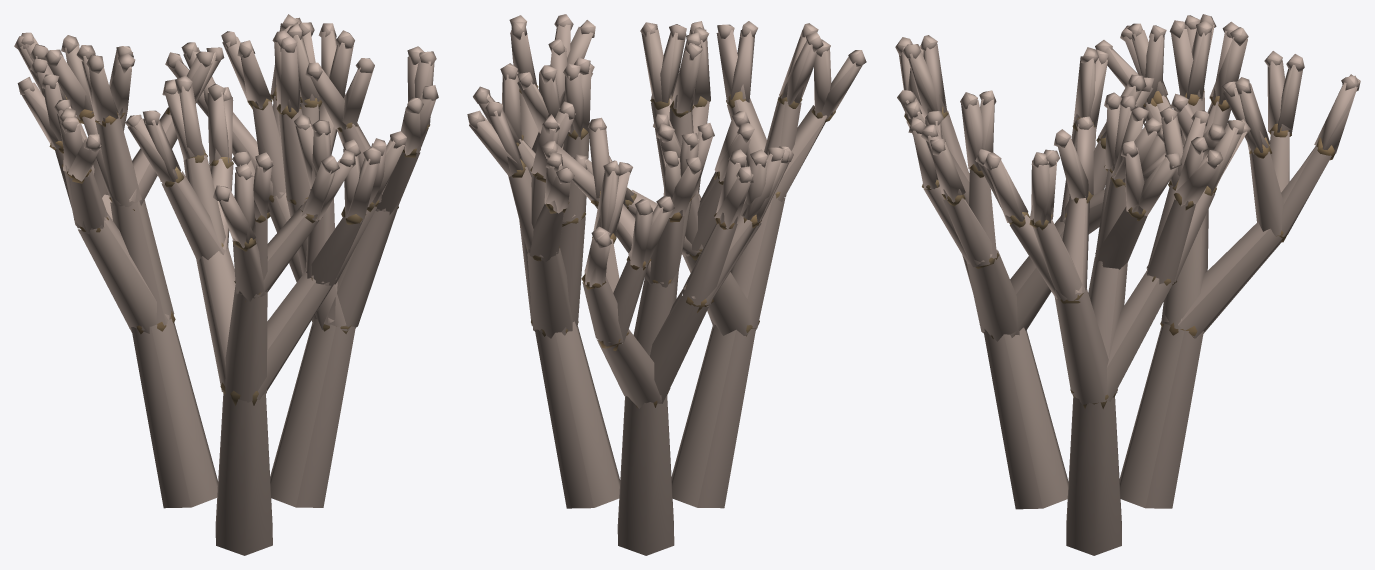
Rendered from staghorn_coral.glb.
3 views of the same model, side by side, from view 1: azimuth 30°, elevation 25°; view 2: azimuth 150°, elevation 25°; view 3: azimuth 270°, elevation 25° (orthographic). The views are drawn at different scales.
Parts seen in each view (by area): view 1: staghorn_coral; view 2: staghorn_coral; view 3: staghorn_coral.
Boxes of the visible parts, box(x1,y1,x2,y2) form: staghorn_coral: box(14, 14, 438, 555); staghorn_coral: box(467, 14, 866, 555); staghorn_coral: box(895, 14, 1360, 555).
Bounding box in the file's own units: 0.6368 × 0.8472 × 0.7939.
